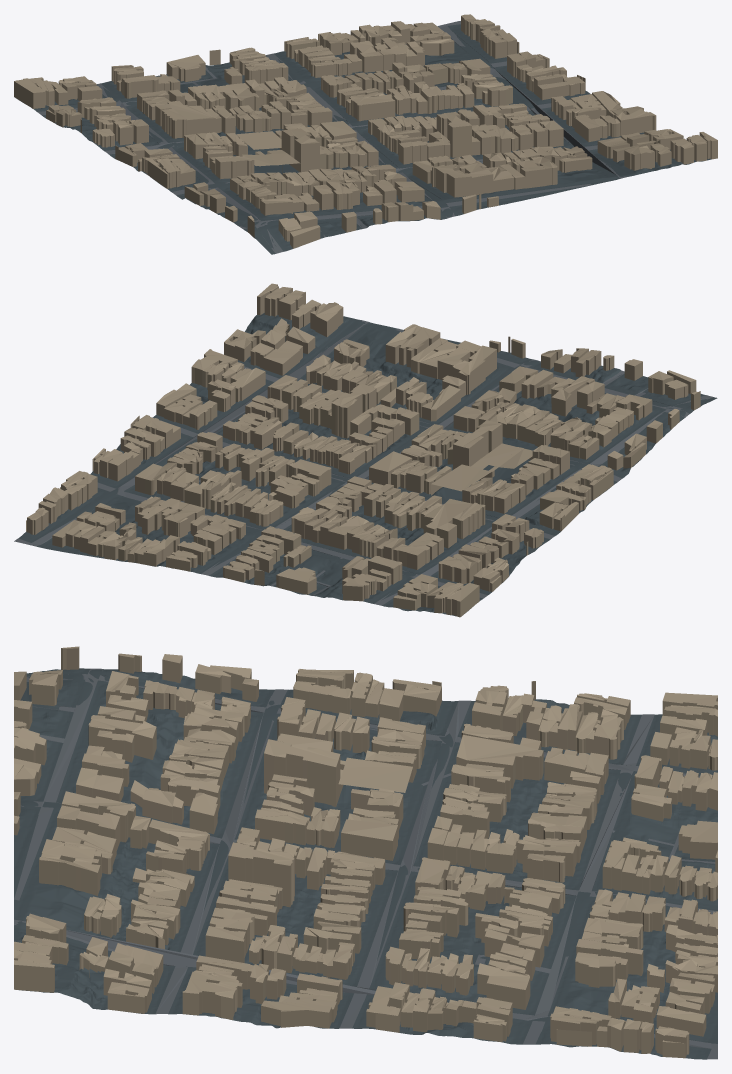
File: epsg26910-1429-10892.lod0.glb
3 views of the same model, one above another, from view 1: azimuth 30°, elevation 25°; view 2: azimuth 150°, elevation 25°; view 3: azimuth 270°, elevation 25° (orthographic). The views are drawn at different scales.
Visible parts, largest first — view 1: epsg26910-1429-10892-lod0; view 2: epsg26910-1429-10892-lod0; view 3: epsg26910-1429-10892-lod0.
Boxes of the visible parts, x1,y1,x2,y2 form: epsg26910-1429-10892-lod0: (14, 14, 717, 254); epsg26910-1429-10892-lod0: (14, 283, 717, 617); epsg26910-1429-10892-lod0: (14, 646, 717, 1059).
Bounding box in the file's own units: 384 × 69.81 × 384.
